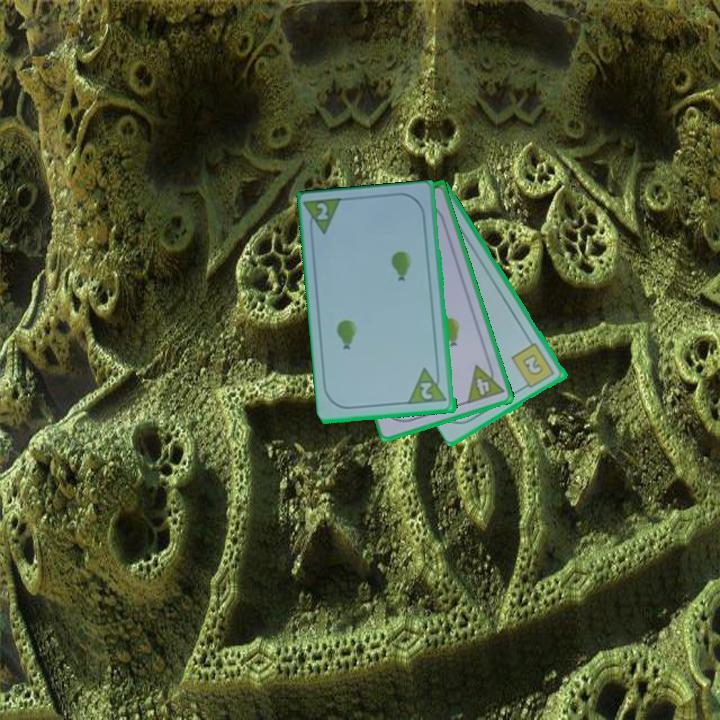2b: (508, 340, 558, 392)
2p: (303, 195, 347, 240), (406, 364, 450, 407)
4p: (463, 358, 507, 407)
